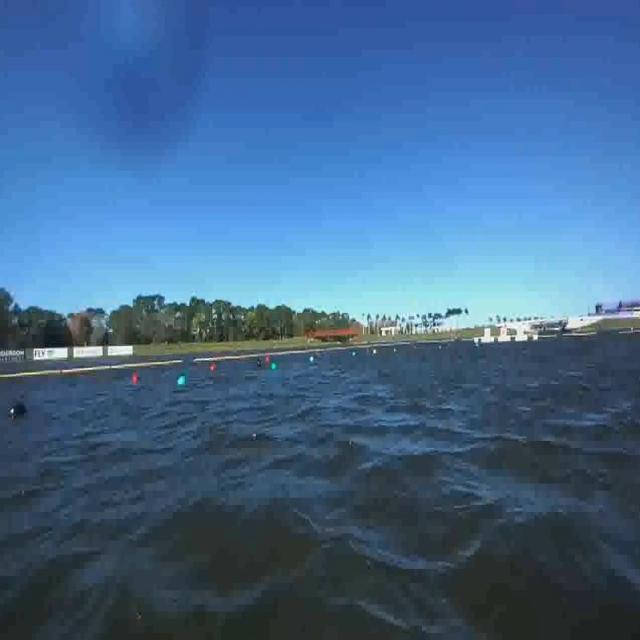black-buoy: (8, 401, 30, 421)
green-buoy: (178, 376, 186, 388)
red-buoy: (131, 369, 142, 388)
